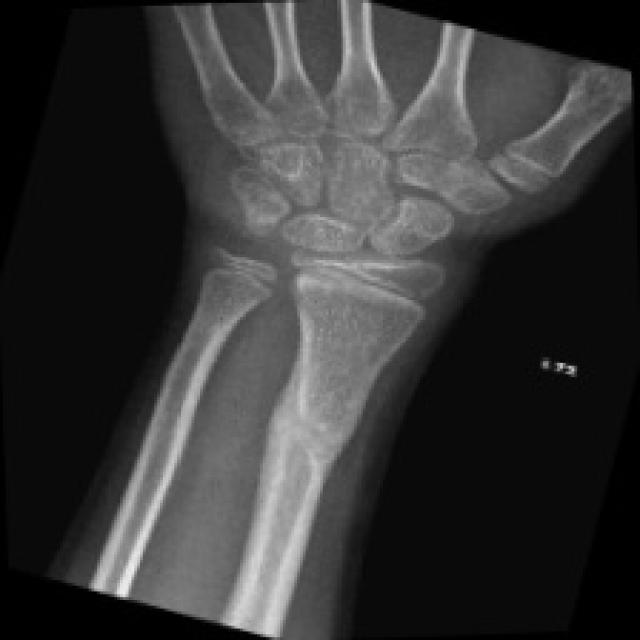fracture: (257, 372, 373, 534)
